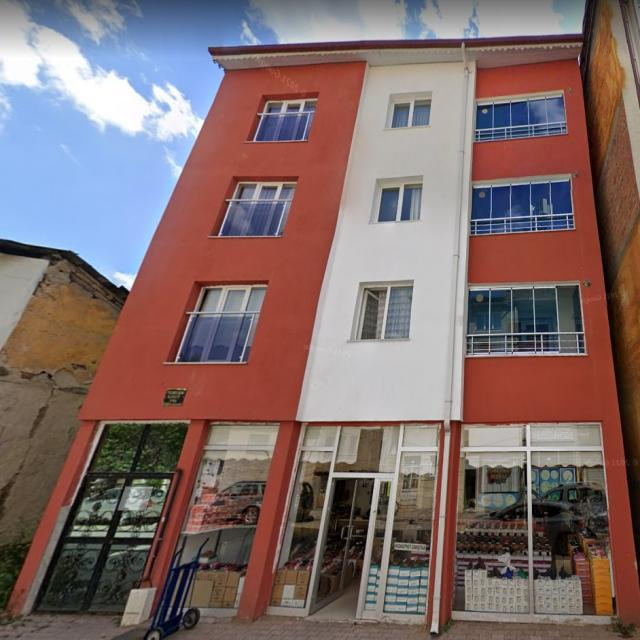Building: (6, 33, 640, 624)
